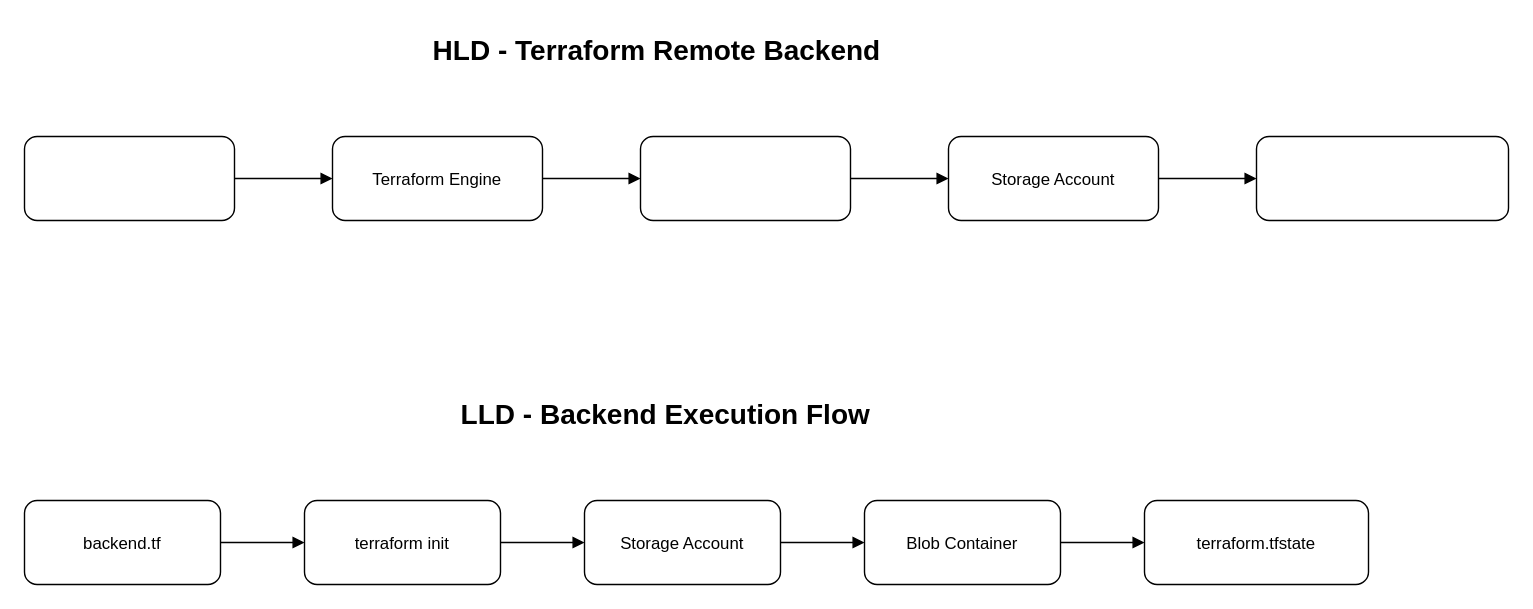
This 1533x609 diagram has some shape labels left out. Here are the shapes that lost their labels. From the top down, the centre of each, then its label:
At (128,177): "DevOps Engineer".
At (744,177): "Azure Provider".
At (1381,177): "Blob Container (tfstate)".
